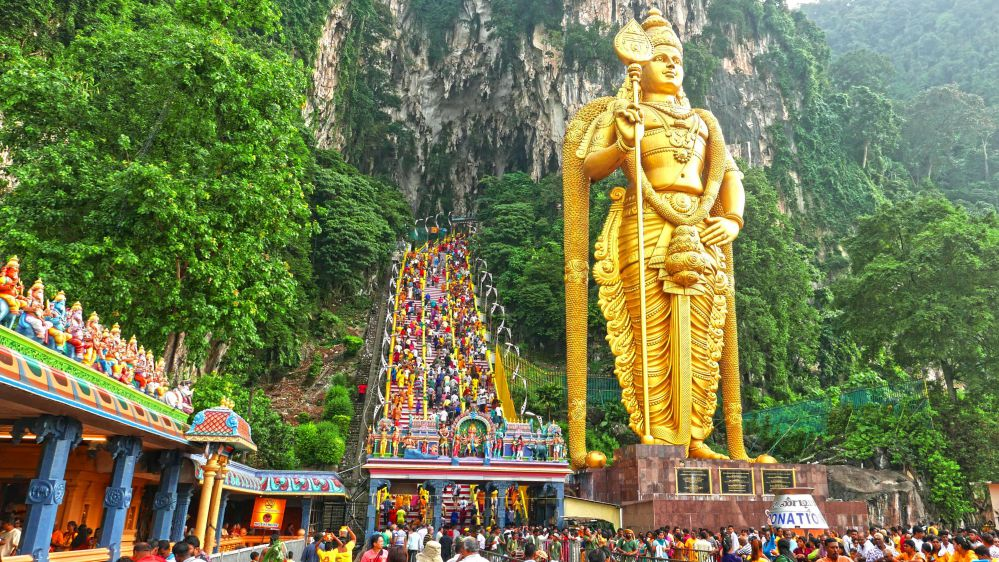Hindu Temple: (560, 5, 753, 470)
